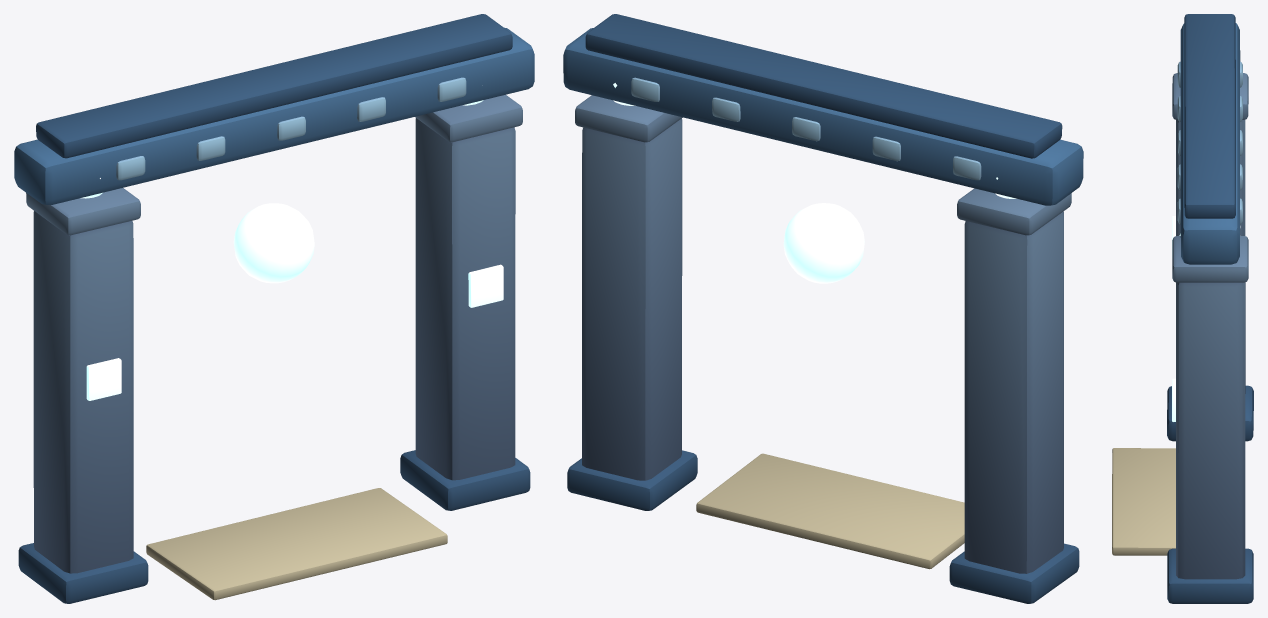
3 renders of one model, left to right at view 1: azimuth 30°, elevation 25°; view 2: azimuth 150°, elevation 25°; view 3: azimuth 270°, elevation 25°, orthographic. The views are drawn at different scales.
Parts seen in each view (by area): view 1: gate_7cb519f9; view 2: gate_7cb519f9; view 3: gate_7cb519f9.
Boxes of the visible parts, x1,y1,x2,y2 form: gate_7cb519f9: (14,14,534,603); gate_7cb519f9: (563,14,1083,603); gate_7cb519f9: (1112,14,1253,603).
Size of the model in its own units: 5.05 by 4.46 by 1.44.
